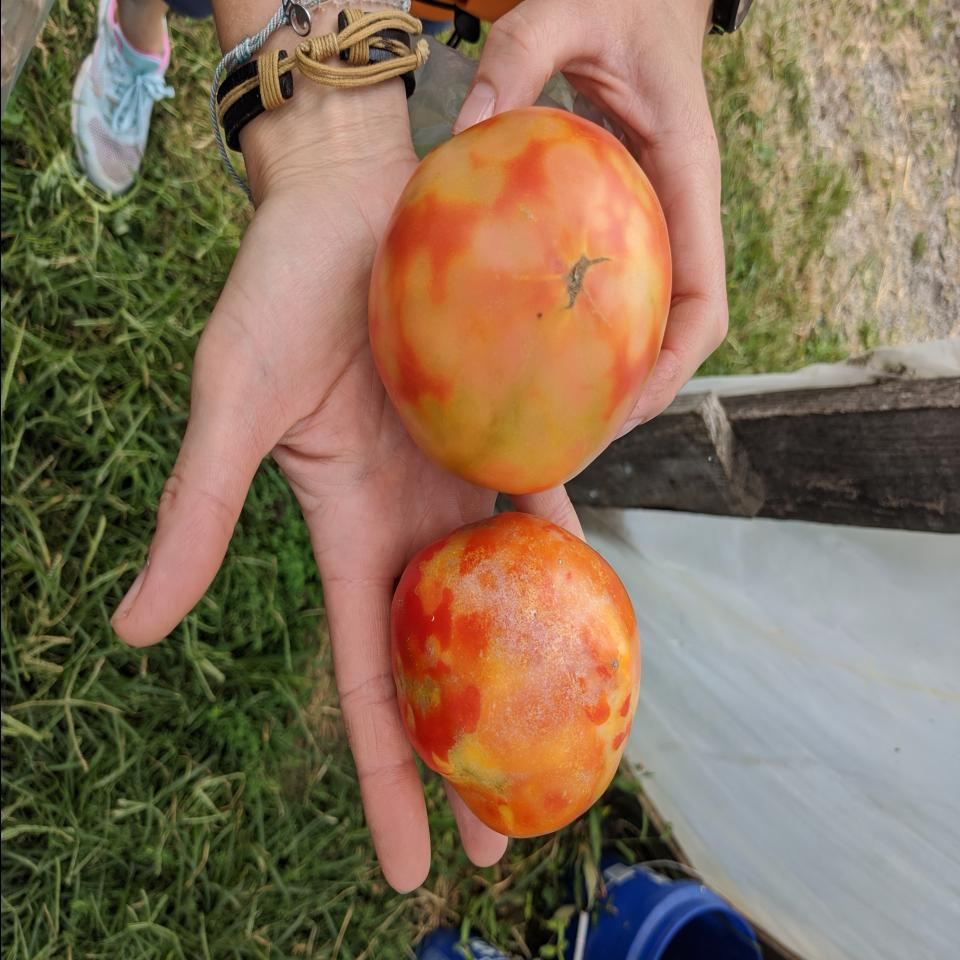Spotted wilt Virus: (365, 103, 671, 494), (386, 515, 638, 837)
